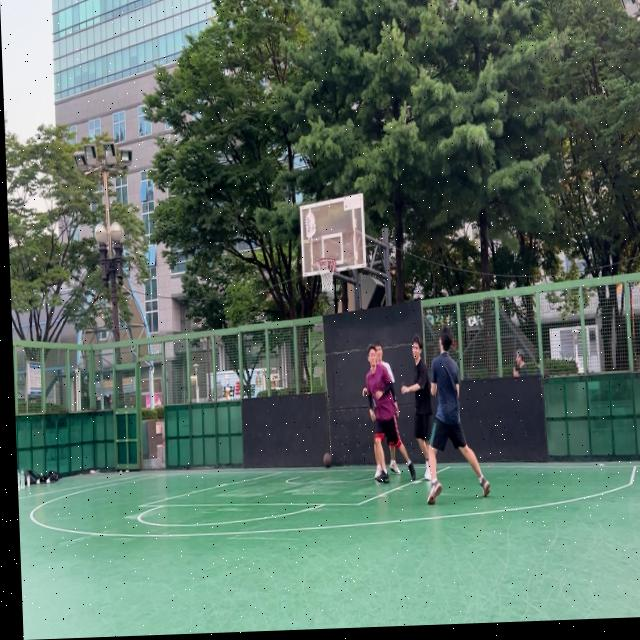basketball: (323, 451, 332, 468)
hoop: (316, 257, 337, 294)
